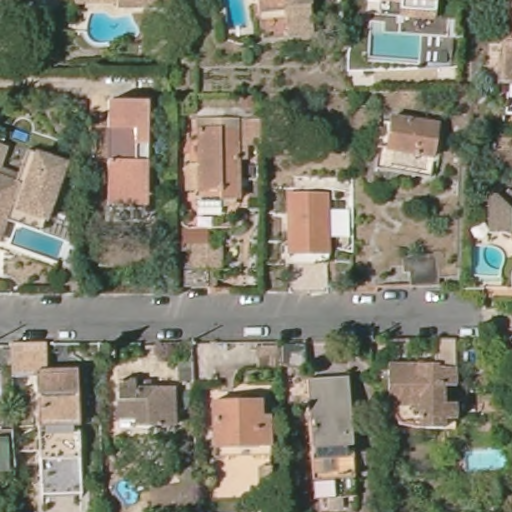pool: (366, 31, 428, 68), (9, 224, 66, 261), (88, 12, 142, 47), (472, 241, 507, 283), (459, 447, 511, 474), (226, 1, 253, 31), (116, 479, 141, 503), (8, 129, 34, 145)
